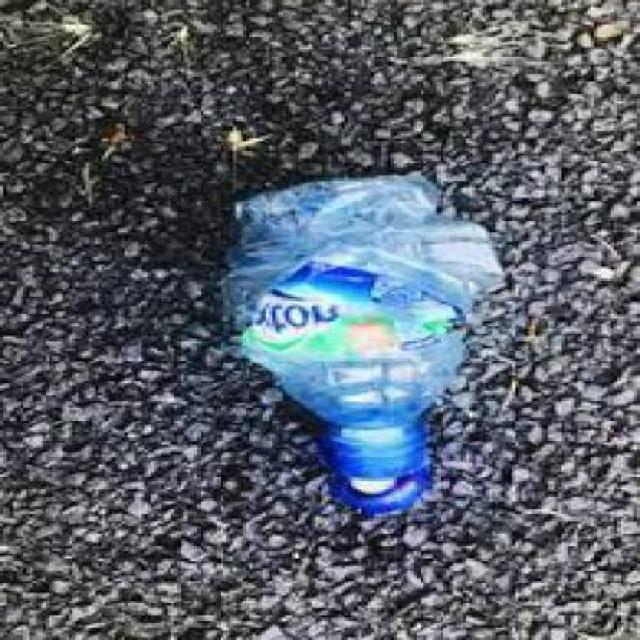PLASTIC: (222, 176, 502, 522), (318, 425, 429, 517)
